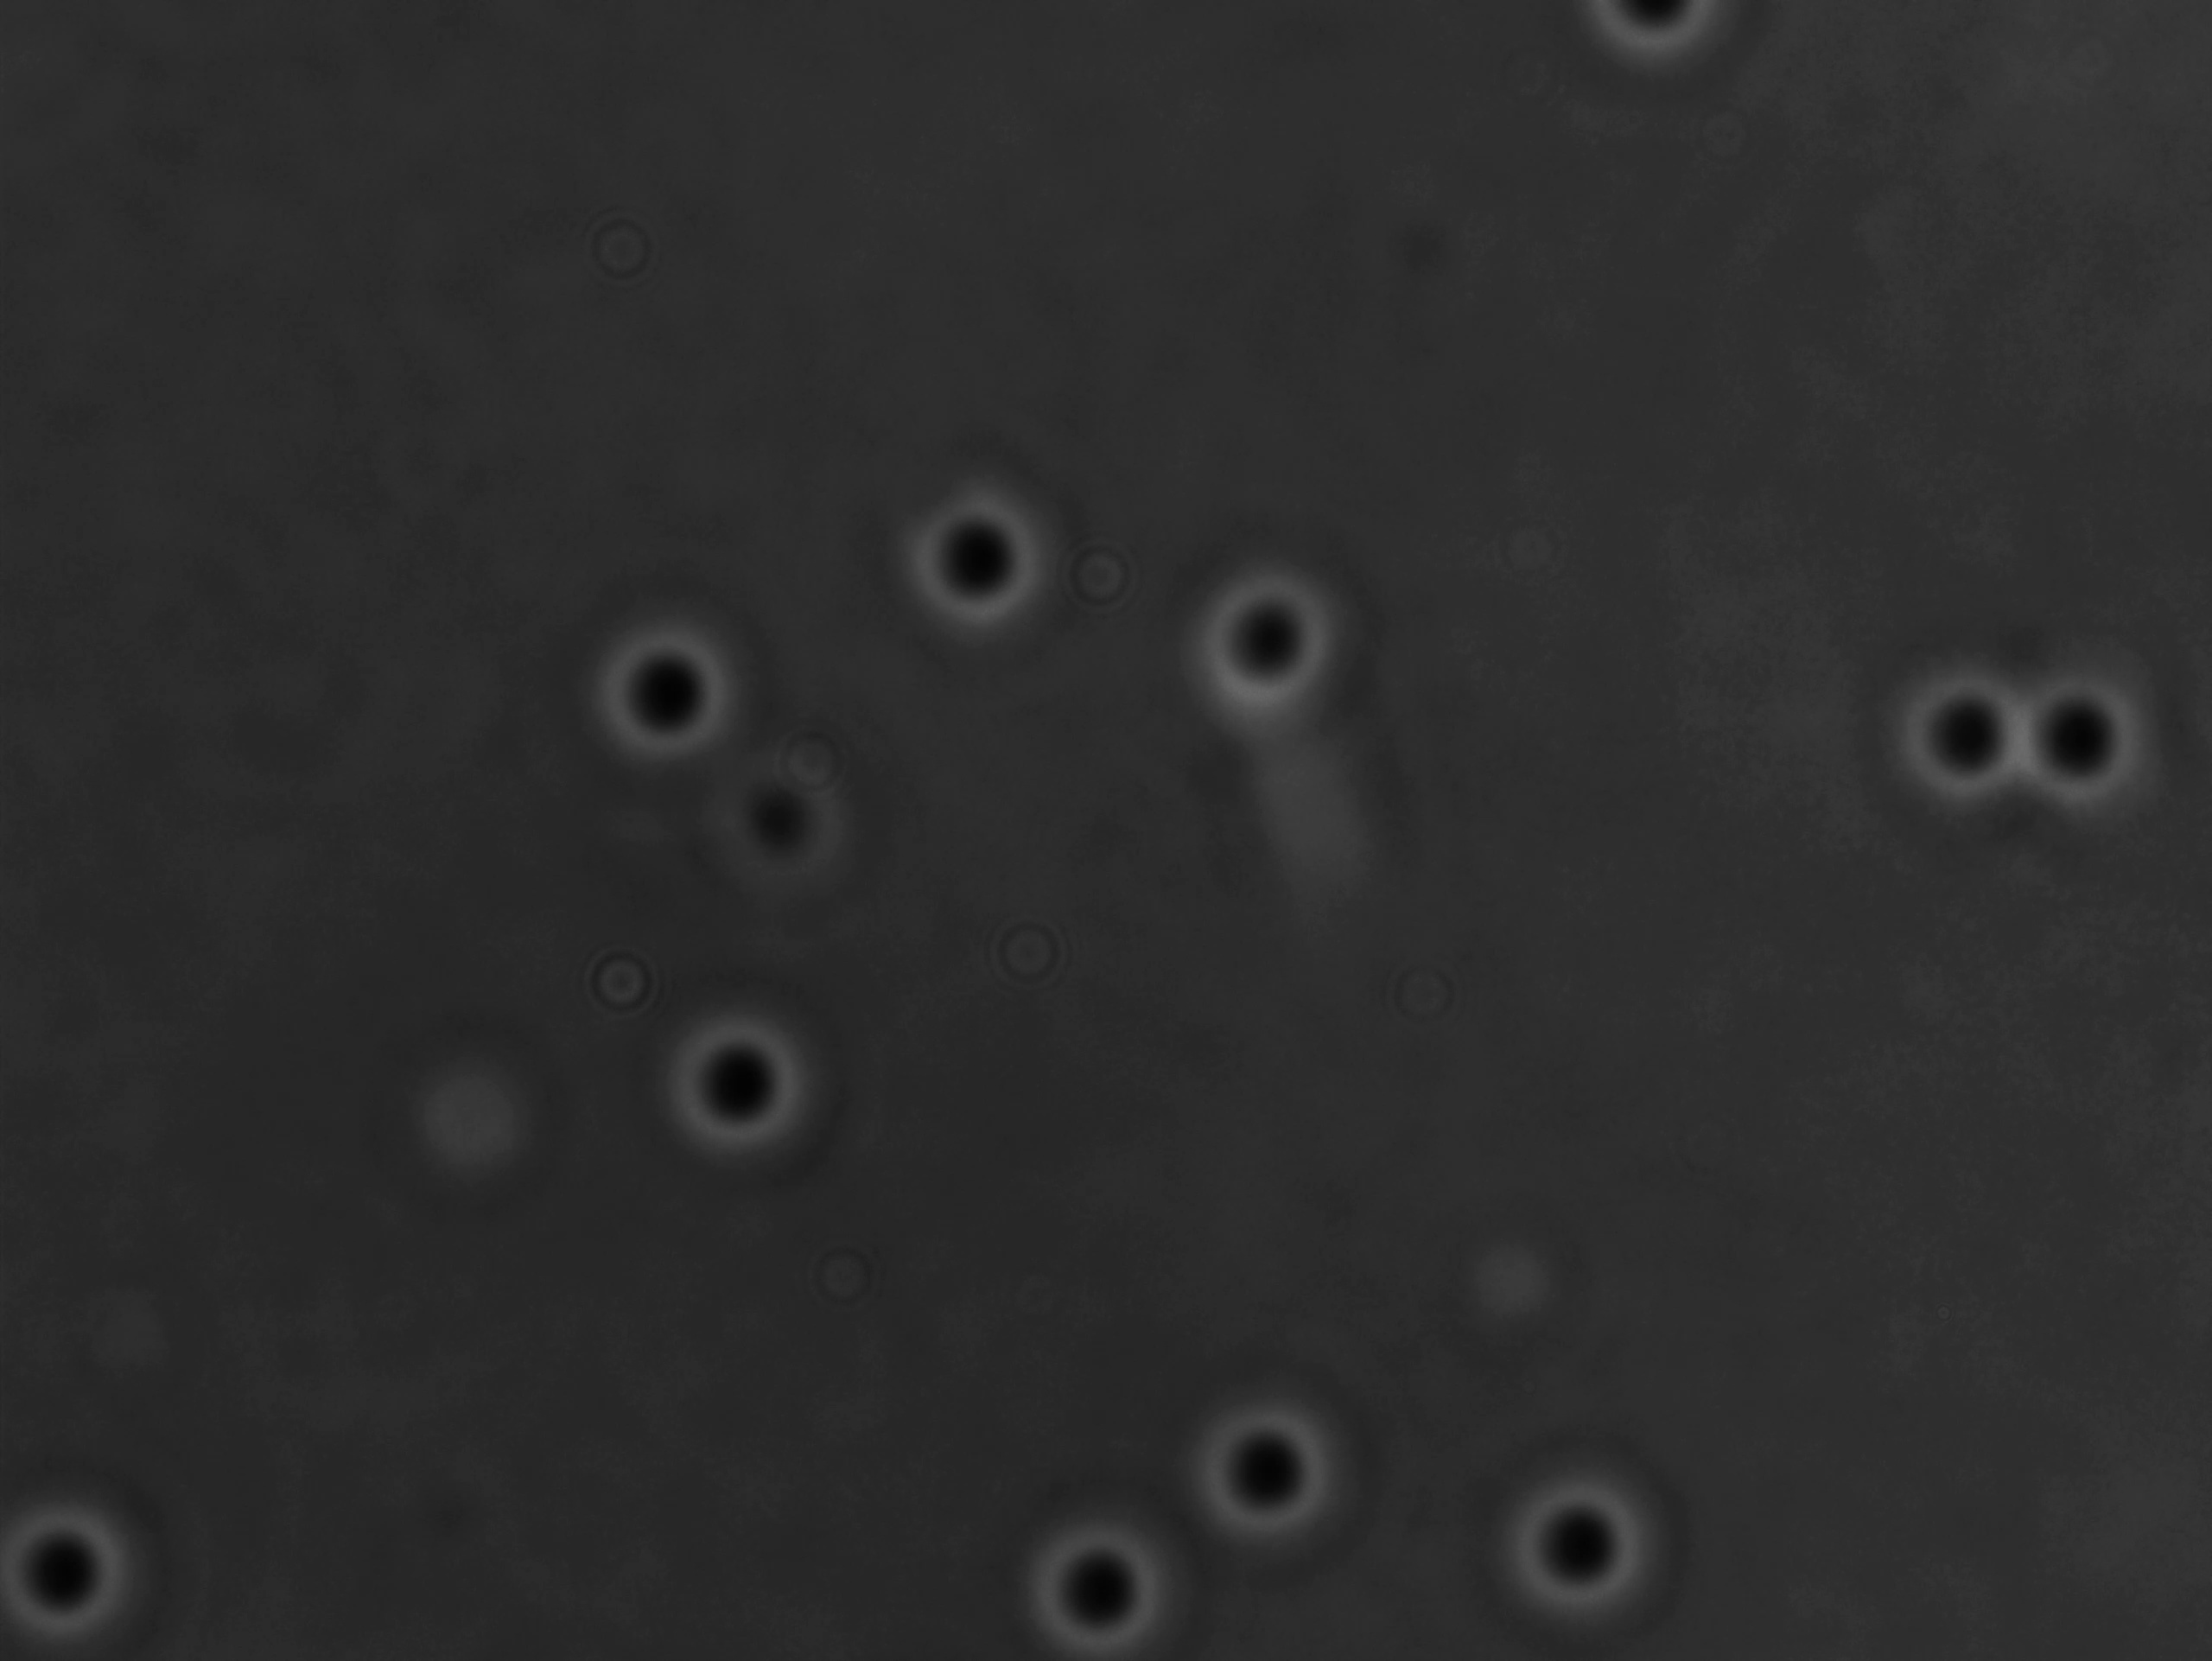depth:-80: (2001, 614, 2202, 830), (1169, 541, 1371, 738), (1877, 642, 2076, 841), (1471, 1450, 1676, 1642), (640, 977, 834, 1171), (886, 462, 1080, 654), (1174, 1380, 1364, 1569), (572, 600, 766, 785), (993, 1499, 1207, 1661)
